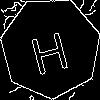H: (25, 22, 71, 76)
